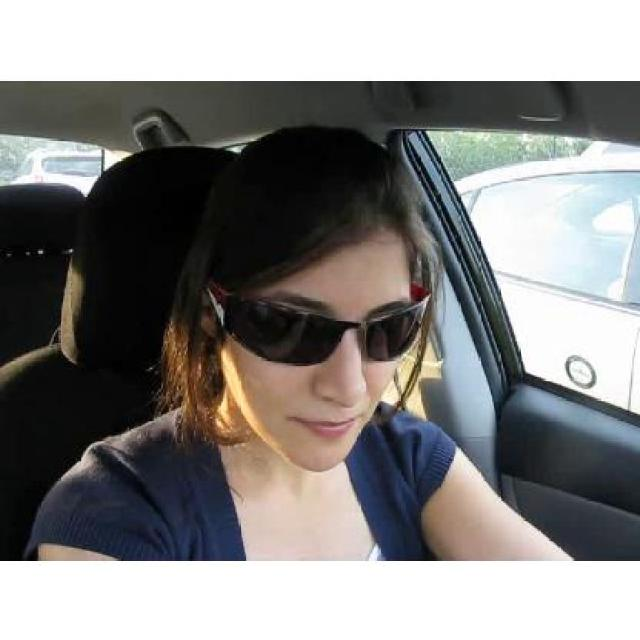attentif: (197, 127, 412, 470)
